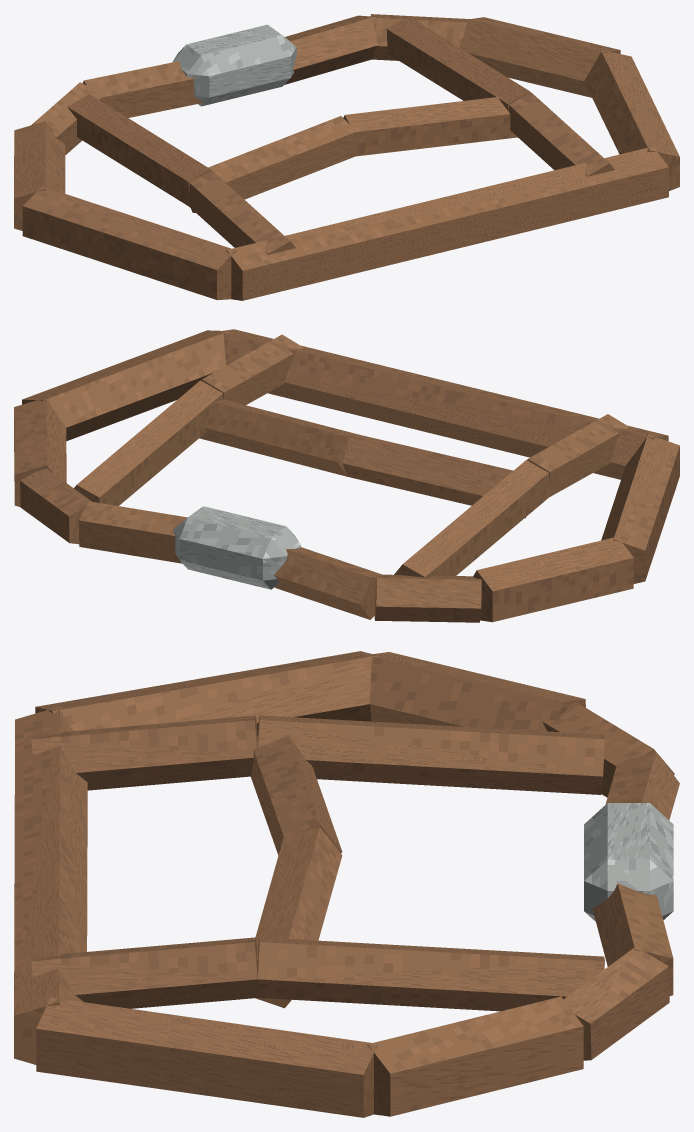
File: leather_harness_dog.glb
3 renders of one model, top to bottom at view 1: azimuth 30°, elevation 25°; view 2: azimuth 150°, elevation 25°; view 3: azimuth 270°, elevation 25°, orthographic. The views are drawn at different scales.
Visible parts, largest first — view 1: block_looped strap 2, block_harness side webbing 0 (×2), block_looped strap 1, block_harness side webbing 1 (×2), block_strap end 1 (×2), block_central strap 1, block_looped strap 4, block_strap keeper, block_looped strap 3, block_central strap 0, block_looped strap 0, block_strap end 0 (×2); view 2: block_looped strap 2, block_harness side webbing 0 (×2), block_looped strap 3, block_strap end 1 (×2), block_looped strap 0, block_strap end 0 (×2), block_harness side webbing 1 (×2), block_strap keeper, block_central strap 0, block_looped strap 1, block_central strap 1, block_looped strap 4; view 3: block_harness side webbing 0 (×2), block_looped strap 3, block_harness side webbing 1 (×2), block_looped strap 2, block_looped strap 4, block_looped strap 1, block_looped strap 0, block_strap end 0 (×2), block_strap keeper, block_strap end 1 (×2), block_central strap 1, block_central strap 0.
Boxes of the visible parts, <box> form: block_looped strap 2: <box>226,146,668,300</box>; block_harness side webbing 0 (×2): <box>67,16,530,206</box>; block_looped strap 1: <box>22,186,236,300</box>; block_harness side webbing 1 (×2): <box>189,92,614,254</box>; block_strap end 1 (×2): <box>82,15,377,117</box>; block_central strap 1: <box>343,97,517,156</box>; block_looped strap 4: <box>460,17,620,97</box>; block_strap keeper: <box>172,24,296,106</box>; block_looped strap 3: <box>584,50,679,190</box>; block_central strap 0: <box>191,116,356,212</box>; block_looped strap 0: <box>14,121,65,230</box>; block_strap end 0 (×2): <box>31,14,469,154</box>; block_looped strap 2: <box>217,329,668,479</box>; block_harness side webbing 0 (×2): <box>74,380,549,577</box>; block_looped strap 3: <box>22,330,228,441</box>; block_strap end 1 (×2): <box>78,501,382,619</box>; block_looped strap 0: <box>473,536,633,622</box>; block_strap end 0 (×2): <box>20,468,481,622</box>; block_harness side webbing 1 (×2): <box>201,334,629,496</box>; block_strap keeper: <box>173,506,300,589</box>; block_central strap 0: <box>342,434,525,518</box>; block_looped strap 1: <box>601,434,679,583</box>; block_central strap 1: <box>199,400,361,476</box>; block_looped strap 4: <box>14,397,66,506</box>; block_harness side webbing 0 (×2): <box>257,715,604,1011</box>; block_looped strap 3: <box>36,997,377,1117</box>; block_harness side webbing 1 (×2): <box>31,715,258,1008</box>; block_looped strap 2: <box>14,706,87,1064</box>; block_looped strap 4: <box>367,996,583,1116</box>; block_looped strap 1: <box>35,651,377,731</box>; block_looped strap 0: <box>366,652,585,731</box>; block_strap end 0 (×2): <box>543,702,674,1060</box>; block_strap keeper: <box>584,803,673,921</box>; block_strap end 1 (×2): <box>592,752,679,995</box>; block_central strap 1: <box>255,827,342,1008</box>; block_central strap 0: <box>251,735,342,855</box>.
Bounding box in the file's own units: 0.4705 × 0.0486 × 0.3124.
1 material, 1 textured.
